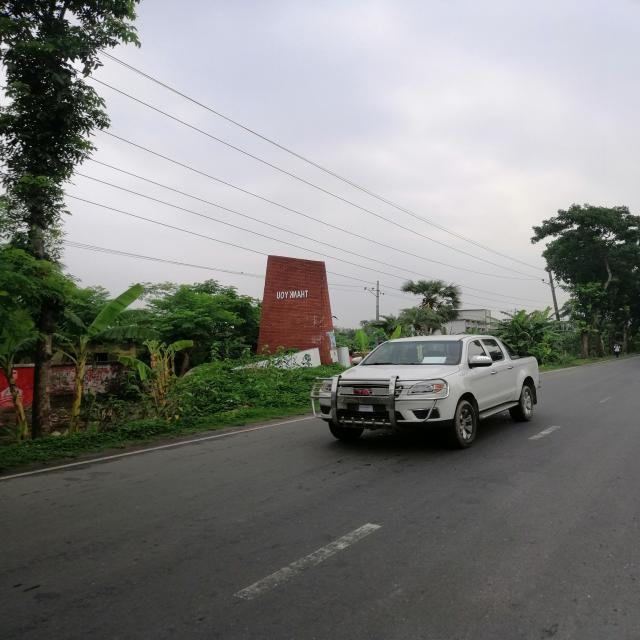Zeep: (308, 327, 543, 456)
